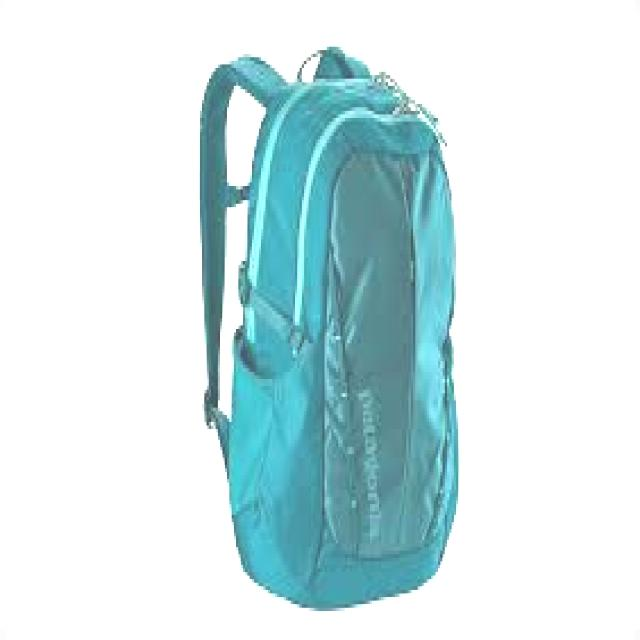backpack: (198, 44, 462, 609)
